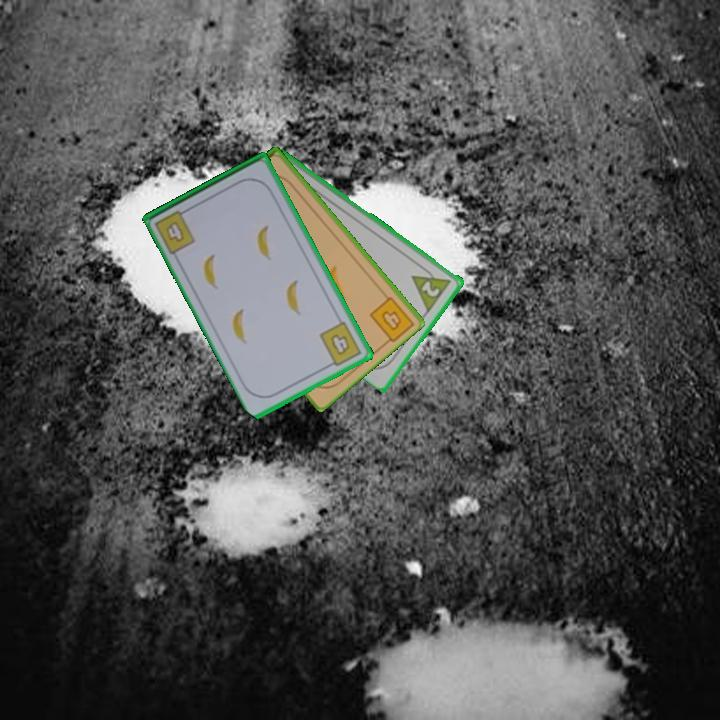2p: (408, 261, 455, 314)
4b: (316, 317, 365, 370), (151, 205, 198, 257), (378, 306, 405, 334)
